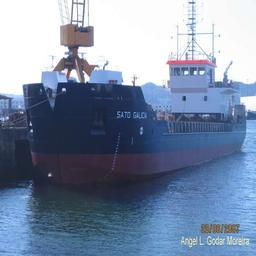Ship: (20, 47, 253, 185)
